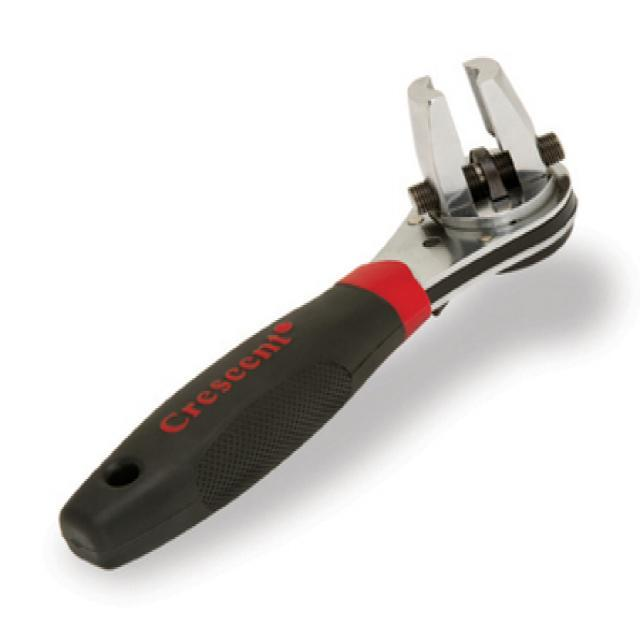wrench: (49, 44, 584, 577)
